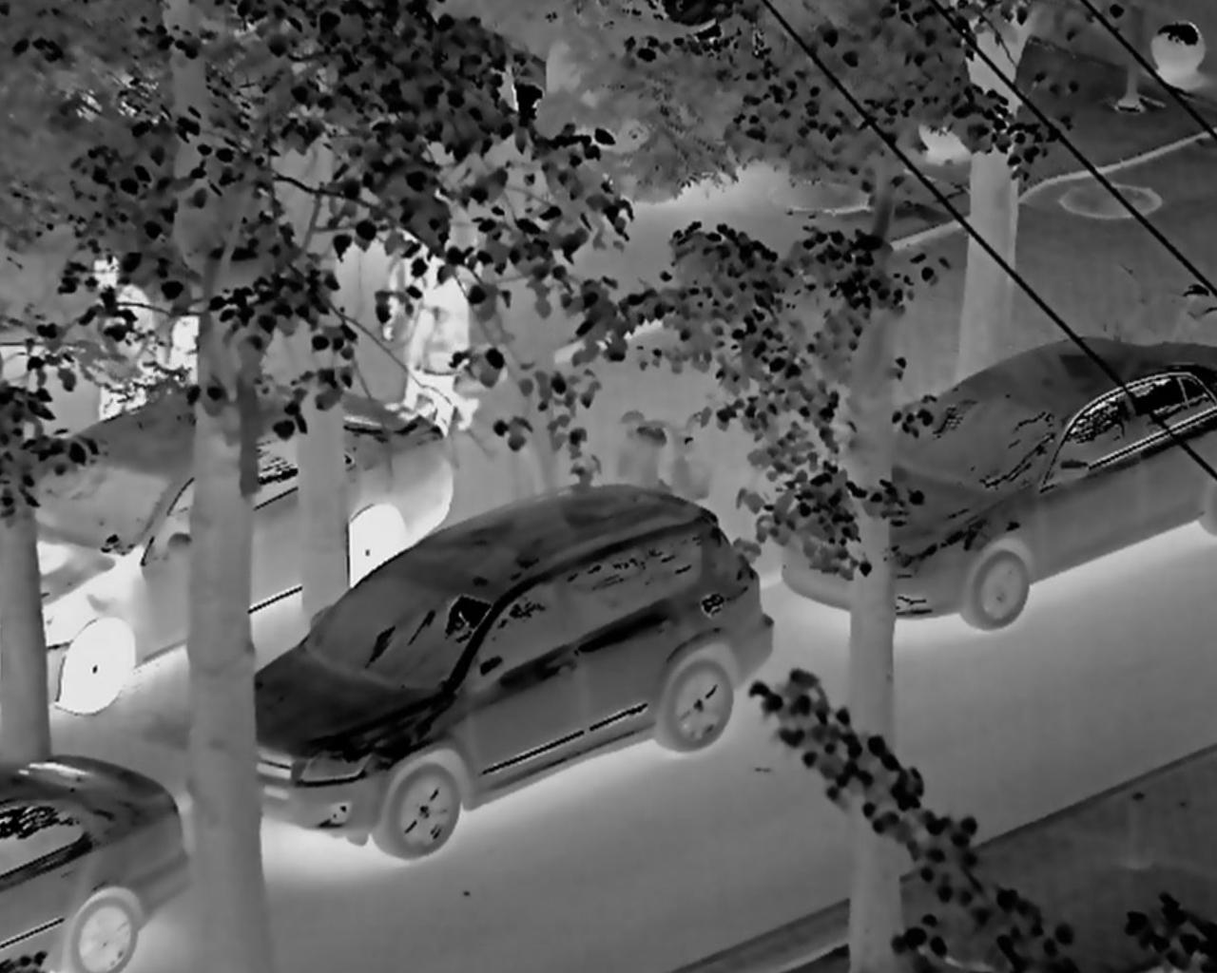person: (389, 218, 497, 447), (50, 242, 154, 425)
